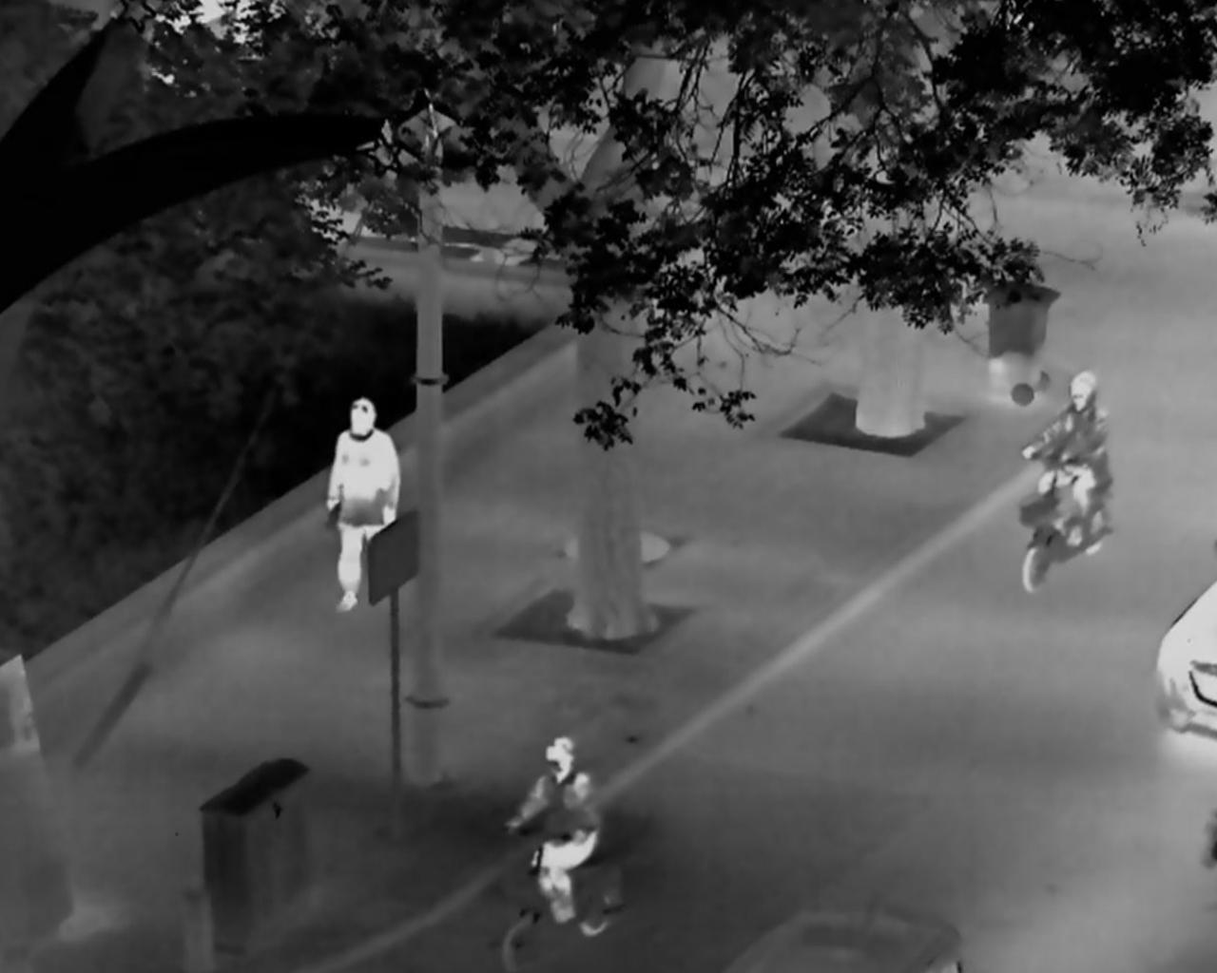person: (504, 735, 602, 925), (324, 393, 400, 611), (1019, 372, 1114, 546)
